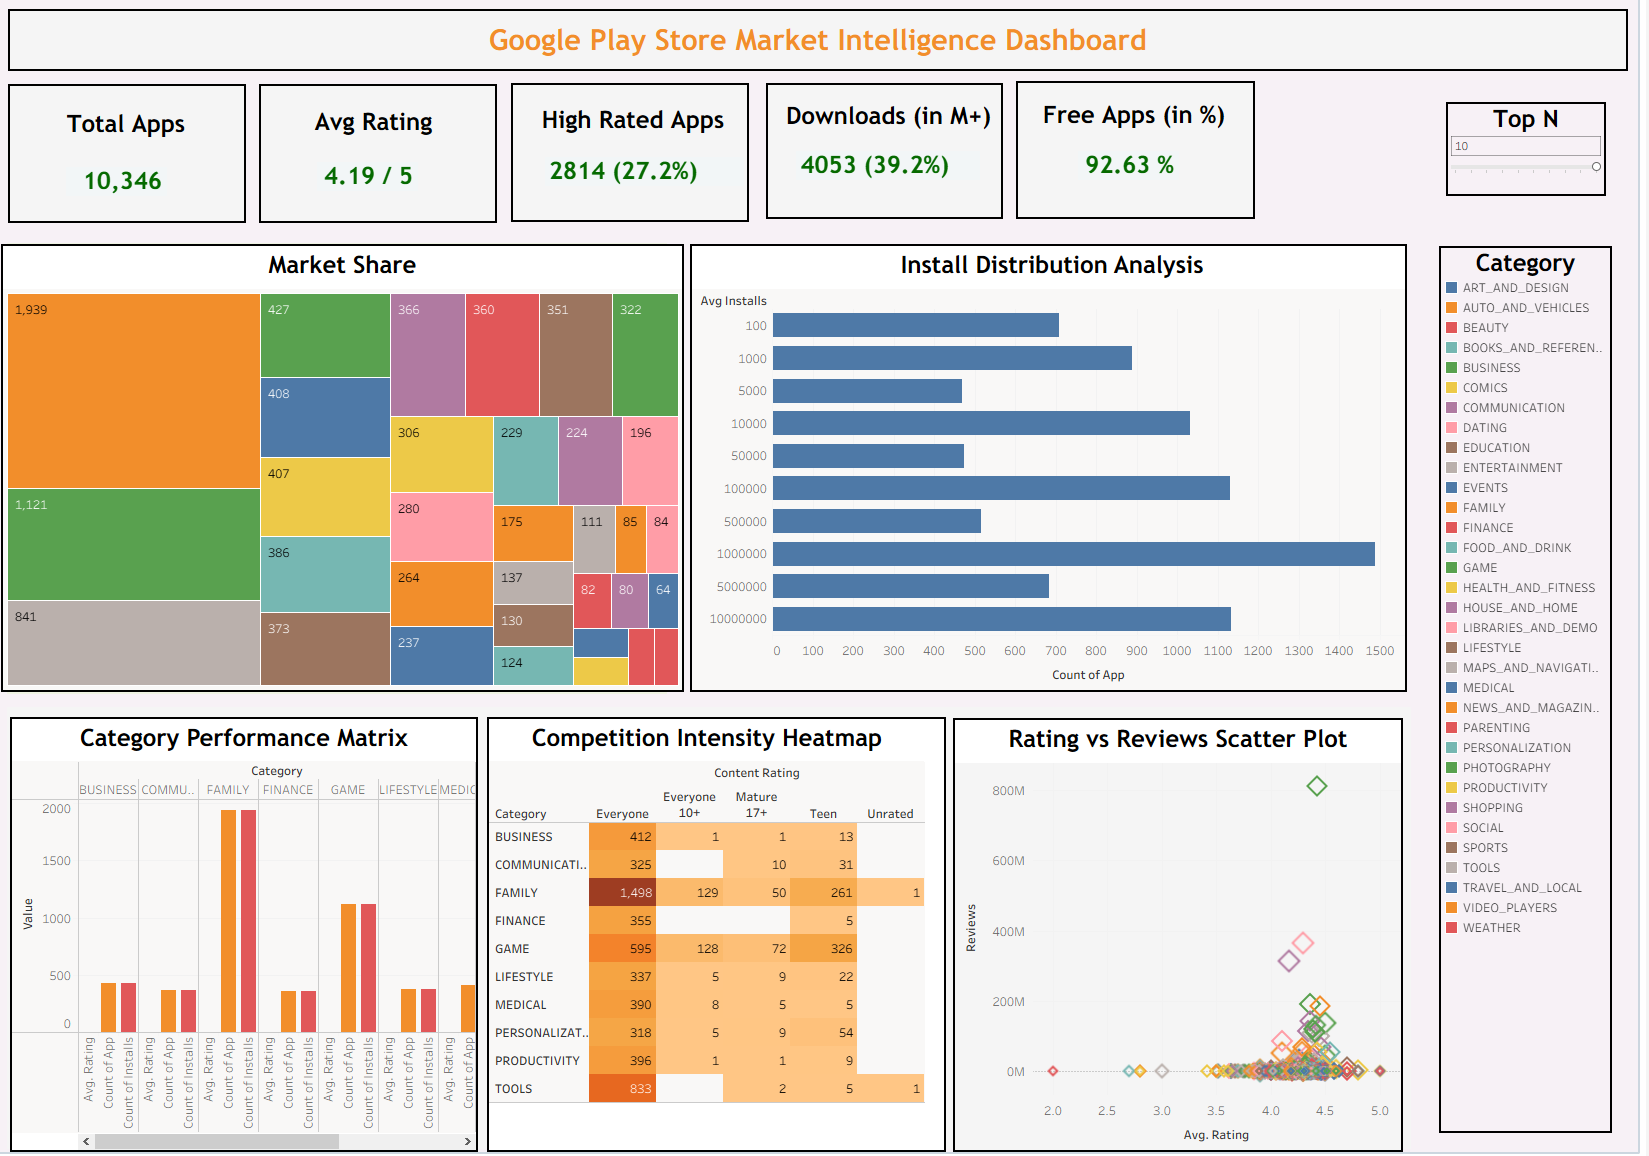

This screenshot's page, from the dashboard's own definition file:
{"tool":"tableau","page":{"name":"Viz","canvas":[1654,1169],"ordinal":0},"visuals":[{"type":"text","box":[16,18,1620,62]},{"type":"blank","box":[1024,90,239,138]},{"type":"blank","box":[519,92,238,139]},{"type":"blank","box":[774,92,237,136]},{"type":"blank","box":[16,93,238,139]},{"type":"blank","box":[267,93,238,139]},{"type":"text","box":[1048,108,188,30]},{"type":"text","box":[787,109,219,30]},{"type":"parameter","param":"[Parameters].[Parameter 1]","box":[1454,111,160,94]},{"type":"text","box":[547,113,188,30]},{"type":"text","box":[308,115,147,30]},{"type":"text","box":[72,117,124,30]},{"type":"worksheet","title":"Downloads (Millions+) KPI","mark":"Automatic","box":[804,160,229,86]},{"type":"worksheet","title":"Free Apps KPI","mark":"Automatic","box":[1086,160,158,53]},{"type":"worksheet","title":" High Rated Apps KPI","mark":"Automatic","box":[553,166,249,105]},{"type":"worksheet","title":"Avg Ratings KPI","mark":"Automatic","box":[325,171,149,55]},{"type":"worksheet","title":"Total Apps KPI","mark":"Automatic","box":[74,176,132,62]},{"type":"blank","box":[15,252,660,451]},{"type":"worksheet","title":"Market Share (TreeMap)","mark":"Automatic","box":[9,253,683,448]},{"type":"worksheet","title":" Install Distribution Analysis","mark":"Automatic","rows":["Avg_Installs"],"cols":["App"],"box":[698,253,717,448]},{"type":"legend","title":"Market Share (TreeMap)","param":"[federated.197ge4l1ov63g514mskco0q1k5dh].[none:Category:nk]","box":[1447,255,173,887]},{"type":"blank","box":[15,716,1404,442]},{"type":"worksheet","title":"Category Performance Matrix","mark":"Automatic","cols":["Category"],"box":[18,726,468,435]},{"type":"worksheet","title":"Competition Intensity Heatmap","mark":"Square","rows":["Category"],"cols":["Content Rating"],"box":[495,726,459,435]},{"type":"worksheet","title":"Rating vs Reviews Scatter Plot","mark":"Automatic","rows":["Reviews"],"cols":["Rating"],"box":[961,727,450,434]}]}

Visuals, with their boxes in screenshot pixels (x1, y1, x2, y2), scaled from the page's 1654x1169 canvas onto the 1649x1156 screenshot:
text: bbox=[16, 18, 1631, 79]
blank: bbox=[1021, 89, 1259, 225]
blank: bbox=[517, 91, 755, 228]
blank: bbox=[772, 91, 1008, 225]
blank: bbox=[16, 92, 253, 229]
blank: bbox=[266, 92, 503, 229]
text: bbox=[1045, 107, 1232, 136]
text: bbox=[785, 108, 1003, 137]
parameter: bbox=[1450, 110, 1609, 203]
text: bbox=[545, 112, 733, 141]
text: bbox=[307, 114, 454, 143]
text: bbox=[72, 116, 195, 145]
"Downloads (Millions+) KPI" worksheet: bbox=[802, 158, 1030, 243]
"Free Apps KPI" worksheet: bbox=[1083, 158, 1240, 211]
" High Rated Apps KPI" worksheet: bbox=[551, 164, 800, 268]
"Avg Ratings KPI" worksheet: bbox=[324, 169, 473, 223]
"Total Apps KPI" worksheet: bbox=[74, 174, 205, 235]
blank: bbox=[15, 249, 673, 695]
"Market Share (TreeMap)" worksheet: bbox=[9, 250, 690, 693]
" Install Distribution Analysis" worksheet: bbox=[696, 250, 1411, 693]
"Market Share (TreeMap)" legend: bbox=[1443, 252, 1615, 1129]
blank: bbox=[15, 708, 1415, 1145]
"Category Performance Matrix" worksheet: bbox=[18, 718, 485, 1148]
"Competition Intensity Heatmap" worksheet (Square marks): bbox=[494, 718, 951, 1148]
"Rating vs Reviews Scatter Plot" worksheet: bbox=[958, 719, 1407, 1148]
